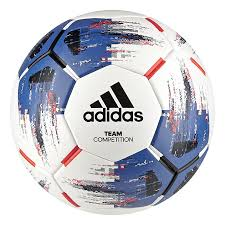football ball: (7, 9, 217, 219)
